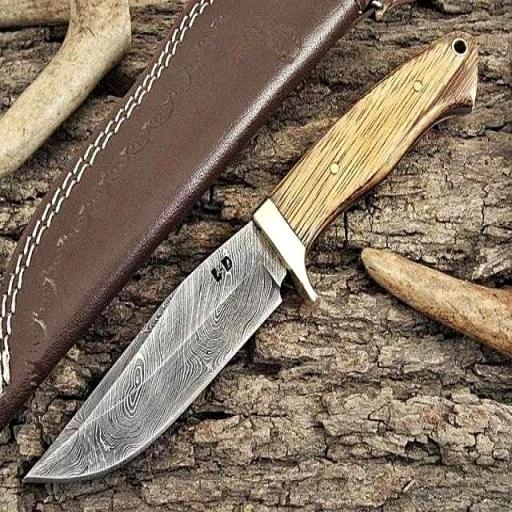knife: (17, 26, 482, 492)
